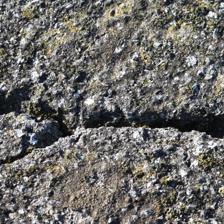Crack: (0, 73, 83, 147), (31, 105, 124, 153)
